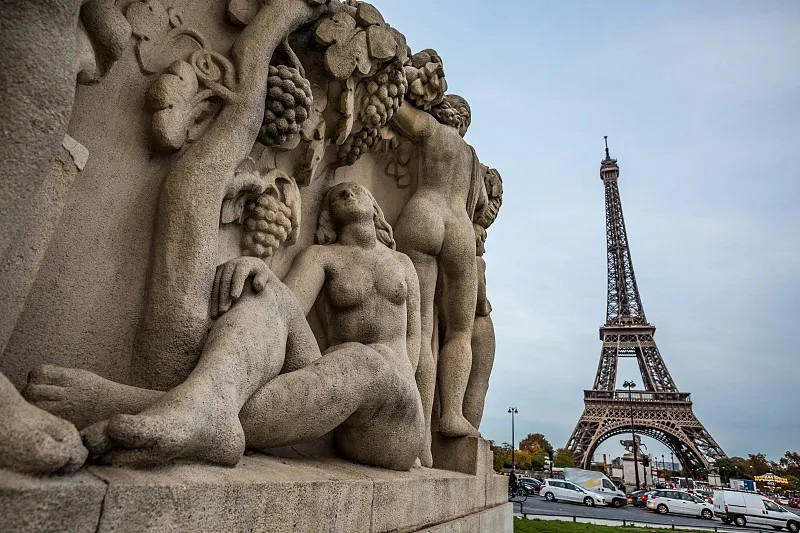Eiffel: (561, 136, 729, 477)
